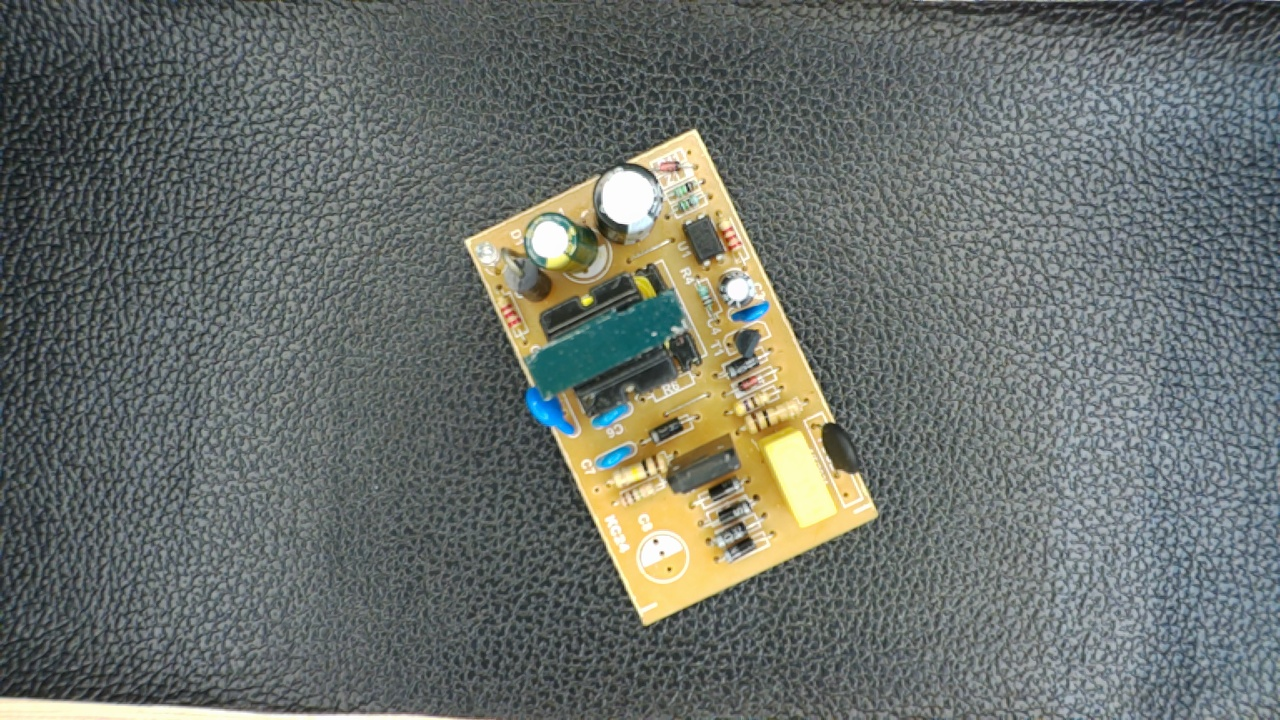fuse: (806, 413, 864, 485)
mov: (521, 378, 581, 443)
optocoupler: (675, 210, 731, 269)
